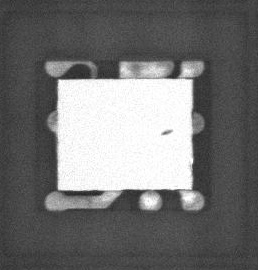DIE_INK: (153, 134, 165, 142)
